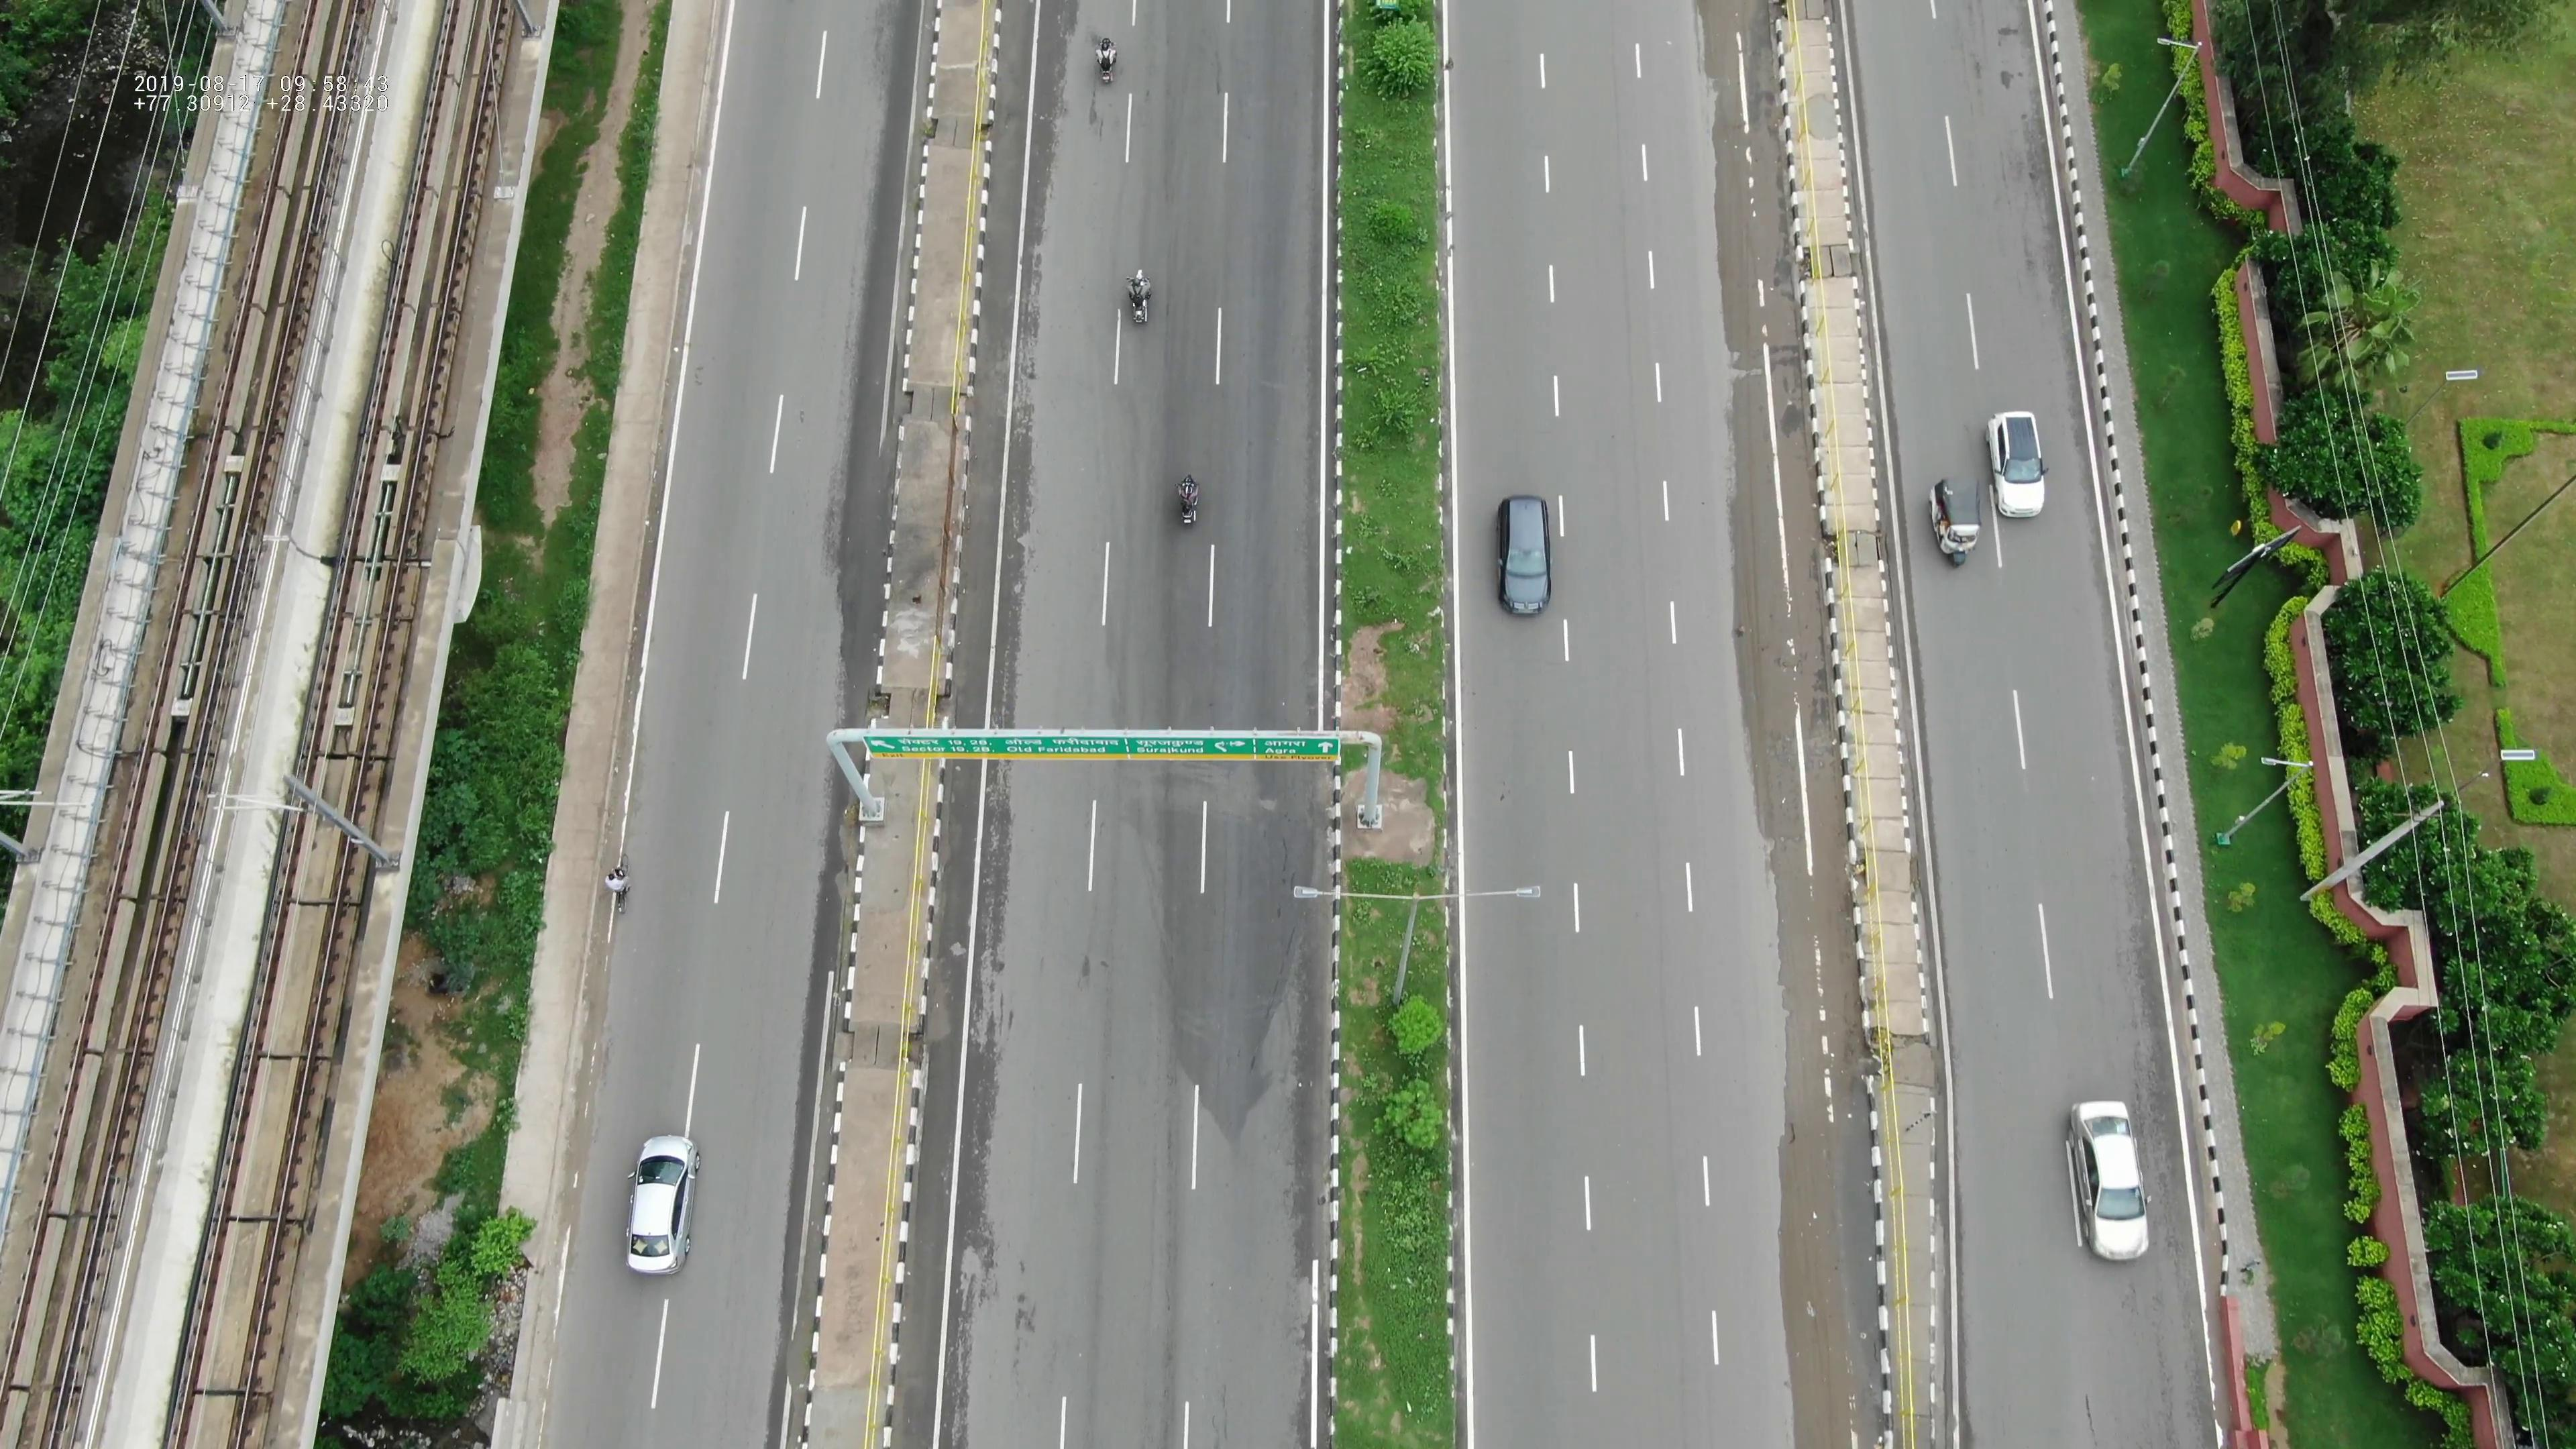Muddy_road: (1714, 487, 1863, 1063), (1693, 12, 1828, 474), (1734, 1074, 1895, 1428)
